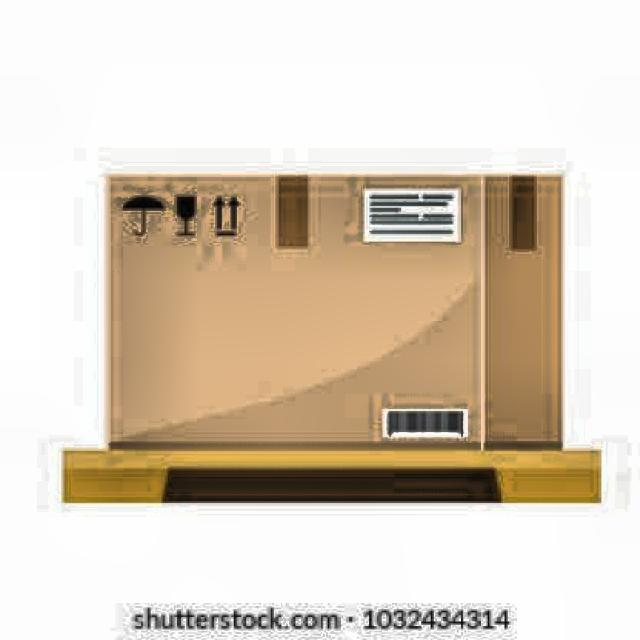Cardbox: (56, 164, 606, 483)
